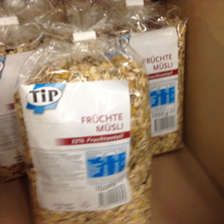cereal: (18, 35, 150, 222)
